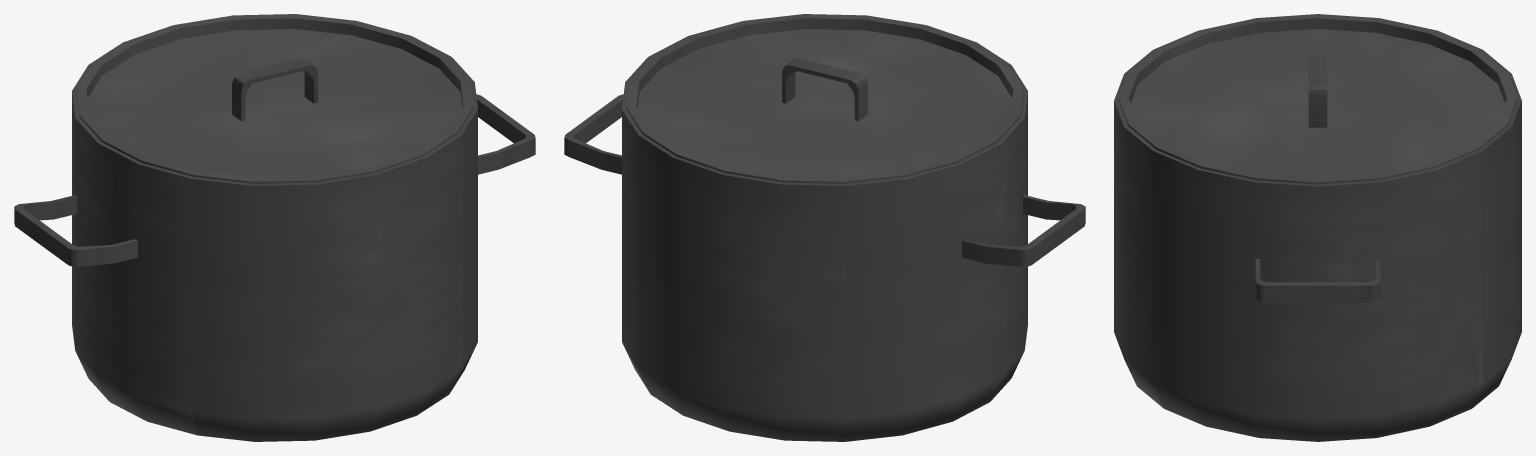
Rendered from pot_1.fbx.
3 views of the same model, side by side, from view 1: azimuth 30°, elevation 25°; view 2: azimuth 150°, elevation 25°; view 3: azimuth 270°, elevation 25° (orthographic).
Visible parts, largest first — view 1: polySurface13; view 2: polySurface13; view 3: polySurface13.
Part boxes in pixels (bbox=[...]): polySurface13: bbox=[14, 14, 535, 441]; polySurface13: bbox=[564, 14, 1085, 441]; polySurface13: bbox=[1114, 14, 1521, 441].
Size of the model in its own units: 34.81 by 21.72 by 26.42.
1 material, 1 textured.
